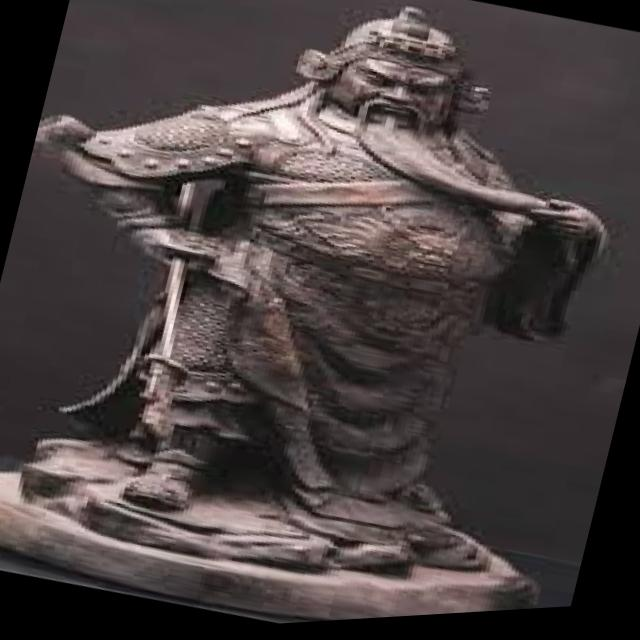Guan Yu: (101, 0, 579, 418)
